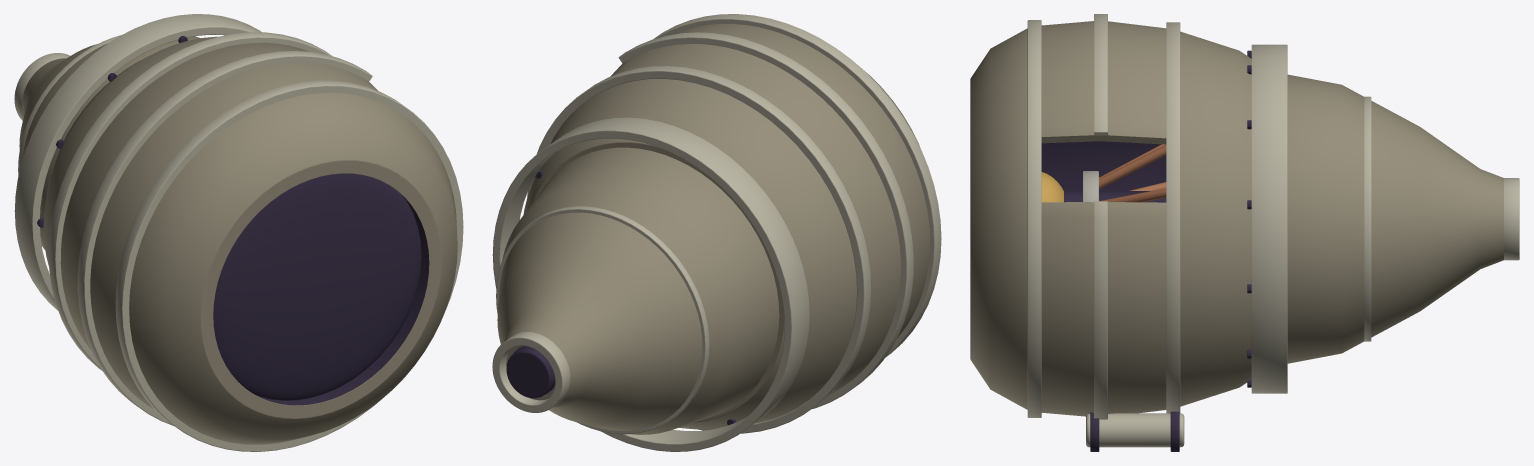
3 views of the same model, side by side, from view 1: azimuth 30°, elevation 25°; view 2: azimuth 150°, elevation 25°; view 3: azimuth 270°, elevation 25° (orthographic).
Parts seen in each view (by area): view 1: Open circular front lip, Recessed dark end face, Windowed enclosure wall, Broad mounting collar, Enclosure reinforcing band, Window interrupted reinforcing band, Enclosure reinforcing band.001, Rear enclosure, Tapered connector pressure shell, Connector service ring, Connector terminal lip; view 2: Tapered connector pressure shell, Rear enclosure, Windowed enclosure wall, Broad mounting collar, Enclosure reinforcing band.001, Window interrupted reinforcing band, Enclosure reinforcing band, Connector service ring, Connector terminal lip, Recessed connector interior; view 3: Tapered connector pressure shell, Windowed enclosure wall, Rear enclosure, Open circular front lip, Broad mounting collar, Enclosure reinforcing band, Enclosure reinforcing band.001, Window interrupted reinforcing band, External service accumulator, Connector service ring, Connector terminal lip, Internal copper feed.002 (+2 smaller).
Boxes of the visible parts, box(x1,y1,x2,y2) form: Open circular front lip: box(129, 93, 457, 444); Recessed dark end face: box(213, 173, 421, 400); Windowed enclosure wall: box(60, 42, 429, 408); Broad mounting collar: box(14, 14, 261, 310); Enclosure reinforcing band: box(115, 80, 463, 451); Window interrupted reinforcing band: box(77, 51, 372, 425); Enclosure reinforcing band.001: box(48, 32, 332, 370); Rear enclosure: box(43, 36, 217, 267); Tapered connector pressure shell: box(19, 36, 200, 249); Connector service ring: box(18, 35, 121, 175); Connector terminal lip: box(14, 53, 69, 120); Tapered connector pressure shell: box(497, 147, 779, 434); Rear enclosure: box(523, 79, 856, 429); Windowed enclosure wall: box(610, 23, 929, 394); Broad mounting collar: box(492, 117, 809, 451); Enclosure reinforcing band.001: box(527, 66, 871, 433); Window interrupted reinforcing band: box(618, 32, 913, 408); Enclosure reinforcing band: box(653, 14, 941, 357); Connector service ring: box(496, 206, 709, 434); Connector terminal lip: box(492, 332, 570, 412); Recessed connector interior: box(506, 346, 555, 398); Tapered connector pressure shell: box(1287, 74, 1503, 363); Windowed enclosure wall: box(1041, 21, 1166, 416); Rear enclosure: box(1180, 31, 1251, 406); Open circular front lip: box(970, 28, 1027, 409); Broad mounting collar: box(1251, 44, 1287, 393); Enclosure reinforcing band: box(1027, 20, 1041, 417); Enclosure reinforcing band.001: box(1166, 22, 1180, 413); Window interrupted reinforcing band: box(1094, 14, 1107, 419); External service accumulator: box(1086, 413, 1184, 447); Connector service ring: box(1364, 96, 1371, 341); Connector terminal lip: box(1504, 178, 1519, 260); Internal copper feed.002: box(1099, 144, 1166, 189).
Bounding box in the file's own units: 2.04 × 2.04 × 2.73.
